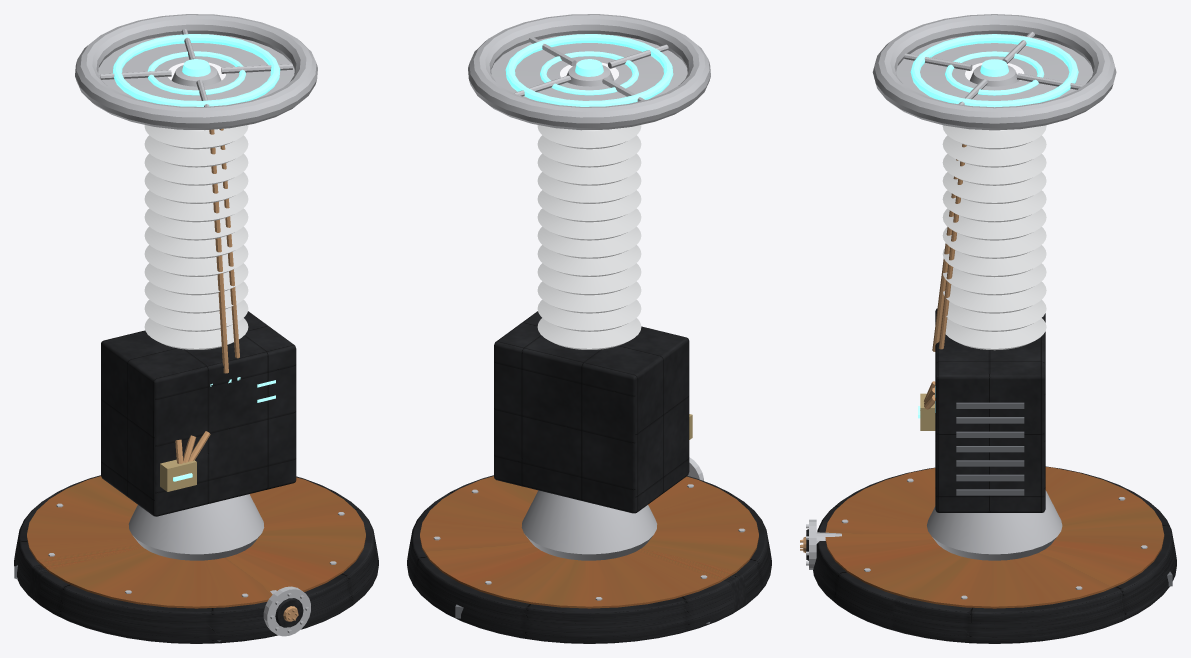
The model's file is pylon.glb.
3 views of the same model, side by side, from view 1: azimuth 30°, elevation 25°; view 2: azimuth 150°, elevation 25°; view 3: azimuth 270°, elevation 25° (orthographic).
Parts seen in each view (by area): view 1: Cabinet, PadDust, InsulatorStack, Pad, HaloRing, Cone, Canopy, HaloGlow, HaloGlow2, CuRiser, CplFlange, JBoxGold (+2 smaller); view 2: Cabinet, PadDust, InsulatorStack, Pad, HaloRing, Cone, Canopy, HaloGlow, HaloGlow2, Hub; view 3: PadDust, InsulatorStack, Cabinet, Pad, HaloRing, Cone, Canopy, HaloGlow, HaloGlow2, CuRiser2, CuRiser, Hub (+1 smaller).
Boxes of the visible parts, x1,y1,x2,y2 form: Cabinet: (101,311,296,516); PadDust: (27,476,365,608); InsulatorStack: (144,125,248,349); Pad: (14,475,378,643); HaloRing: (75,14,317,130); Cone: (128,494,264,560); Canopy: (98,34,294,100); HaloGlow: (112,34,280,106); HaloGlow2: (147,51,245,95); CuRiser: (209,129,228,373); CplFlange: (263,586,310,636); JBoxGold: (160,459,196,491); Cabinet: (494,311,689,513); PadDust: (420,476,758,608); InsulatorStack: (537,125,641,349); Pad: (407,475,771,643); HaloRing: (468,14,710,130); Cone: (521,490,657,560); Canopy: (491,34,687,100); HaloGlow: (505,34,673,106); HaloGlow2: (540,51,638,95); Hub: (566,65,614,86); PadDust: (825,467,1164,608); InsulatorStack: (942,125,1046,350); Cabinet: (935,308,1045,512); Pad: (813,466,1176,643); HaloRing: (872,14,1116,130); Cone: (927,490,1062,560); Canopy: (896,34,1093,100); HaloGlow: (910,34,1078,107); HaloGlow2: (945,51,1044,95); CuRiser2: (938,144,966,349); CuRiser: (932,159,958,351); Hub: (969,65,1019,86).
Bounding box in the file's own units: 1.72 × 2.63 × 1.78.
Materials: 9 (2 with a texture image).
